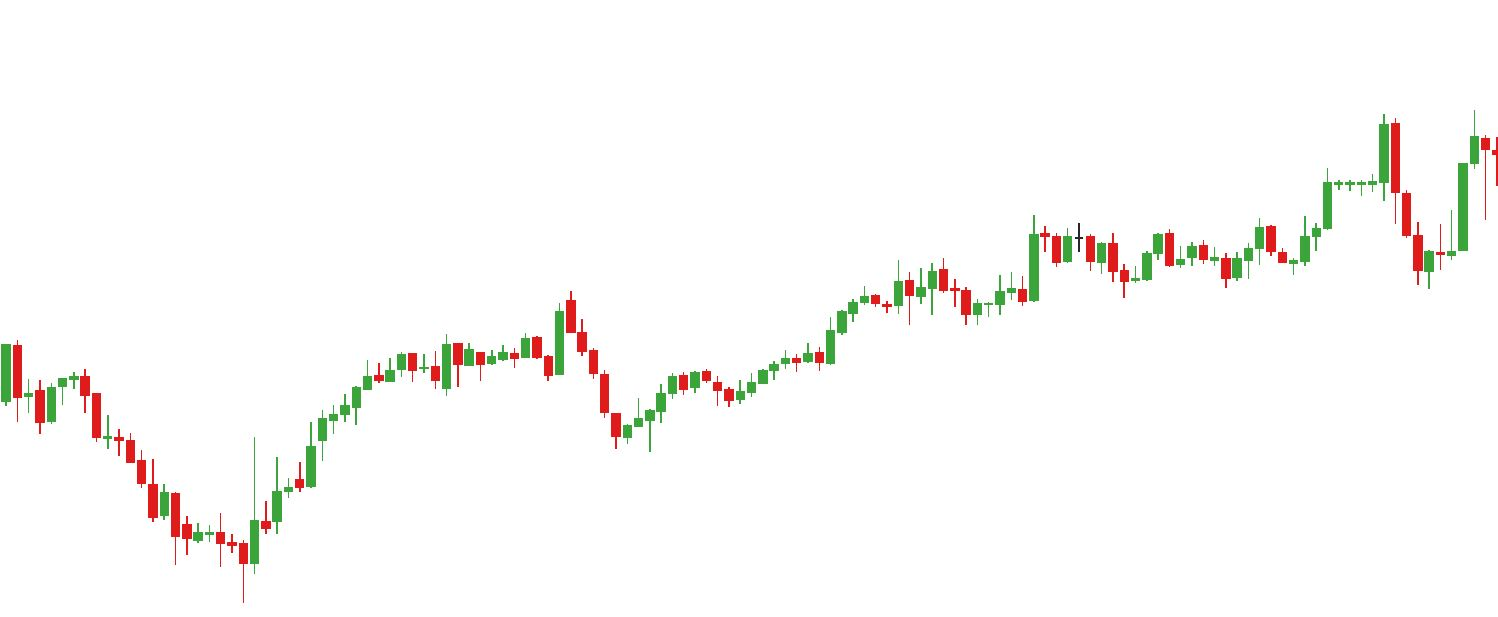buy: (1288, 190, 1437, 290)
sell: (441, 289, 588, 368)
